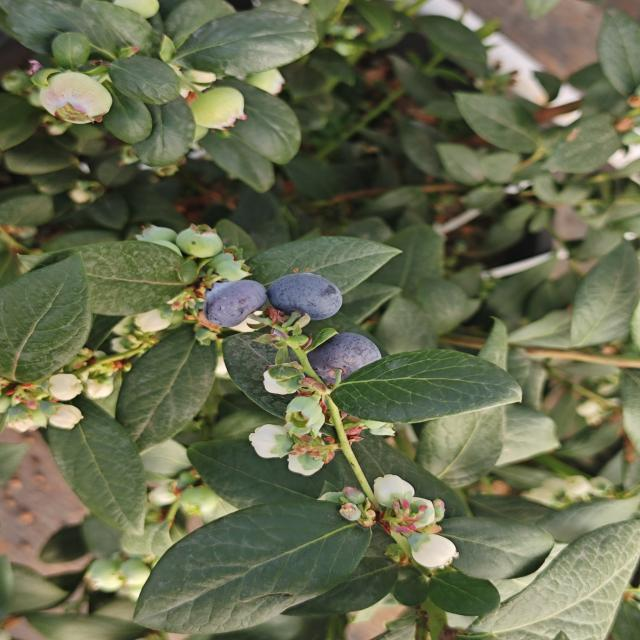ripe: (302, 326, 395, 388), (271, 270, 348, 318), (200, 276, 270, 324)
